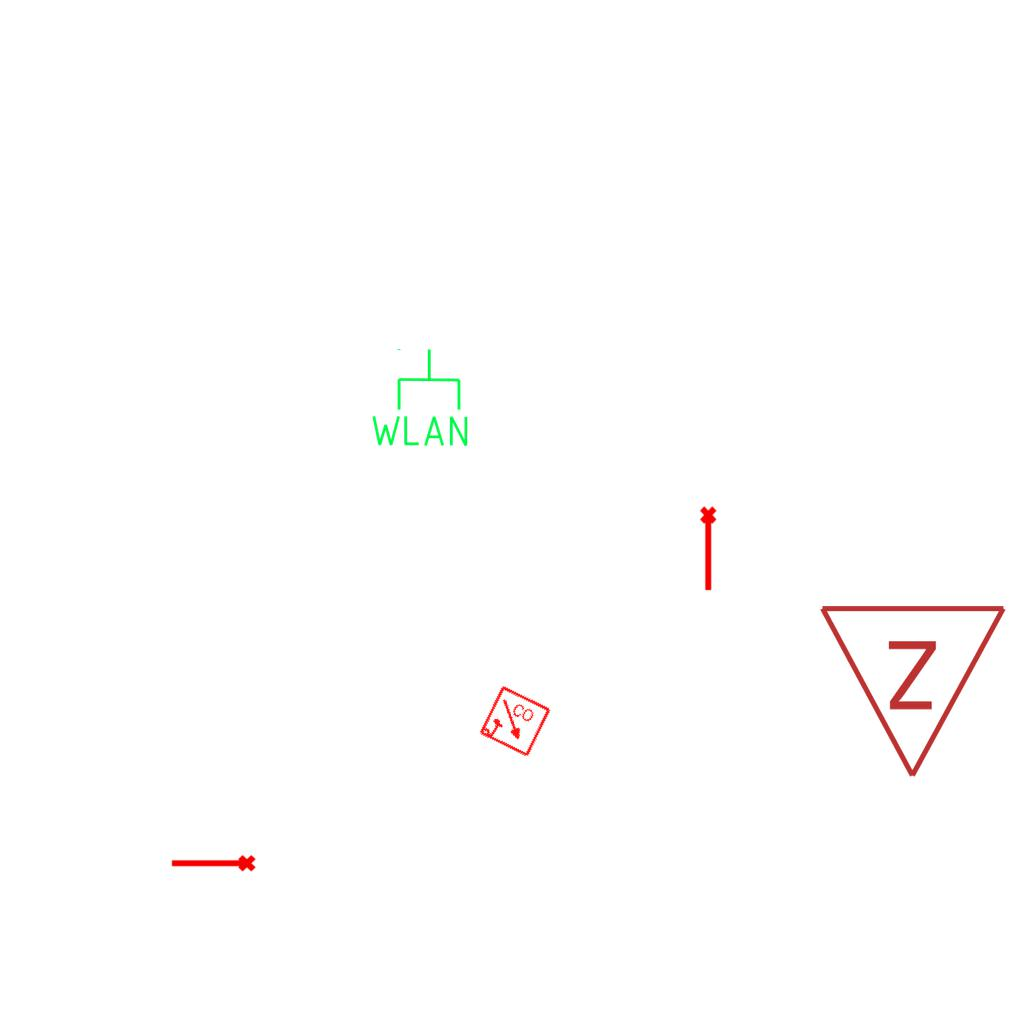ASR_Ansaugoeffnung: (698, 505, 721, 593), (169, 853, 257, 876)
ROA_Rauchmelder_optisch_mit_Signalgeber_(Sockelsirene): (477, 684, 553, 760)
WLAN: (367, 346, 472, 450)
Zimmersignalleuchte: (817, 591, 1013, 791)
